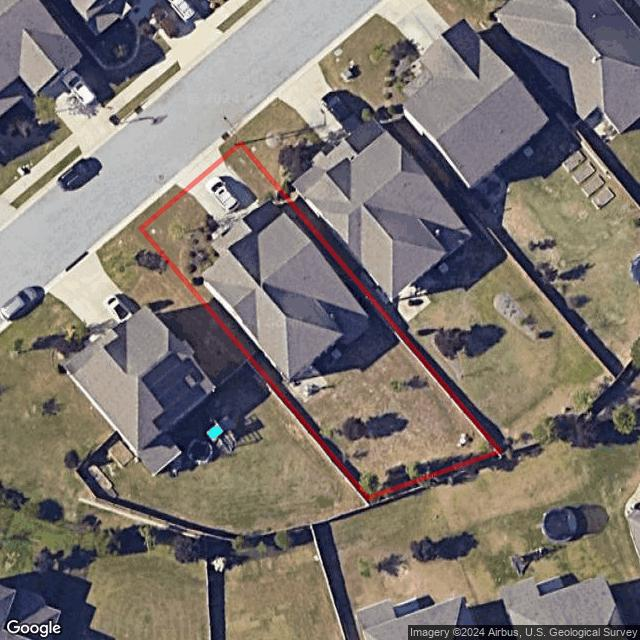Driveway: (187, 162, 263, 231)
Extra-Driveway: (174, 148, 224, 193)
Extra-Lawn: (134, 184, 184, 228), (218, 135, 242, 161)
House: (200, 202, 372, 381)
Lawn: (141, 144, 499, 498)
Other: (187, 216, 221, 279), (286, 363, 331, 404)
Sidewalk: (212, 227, 225, 241)
